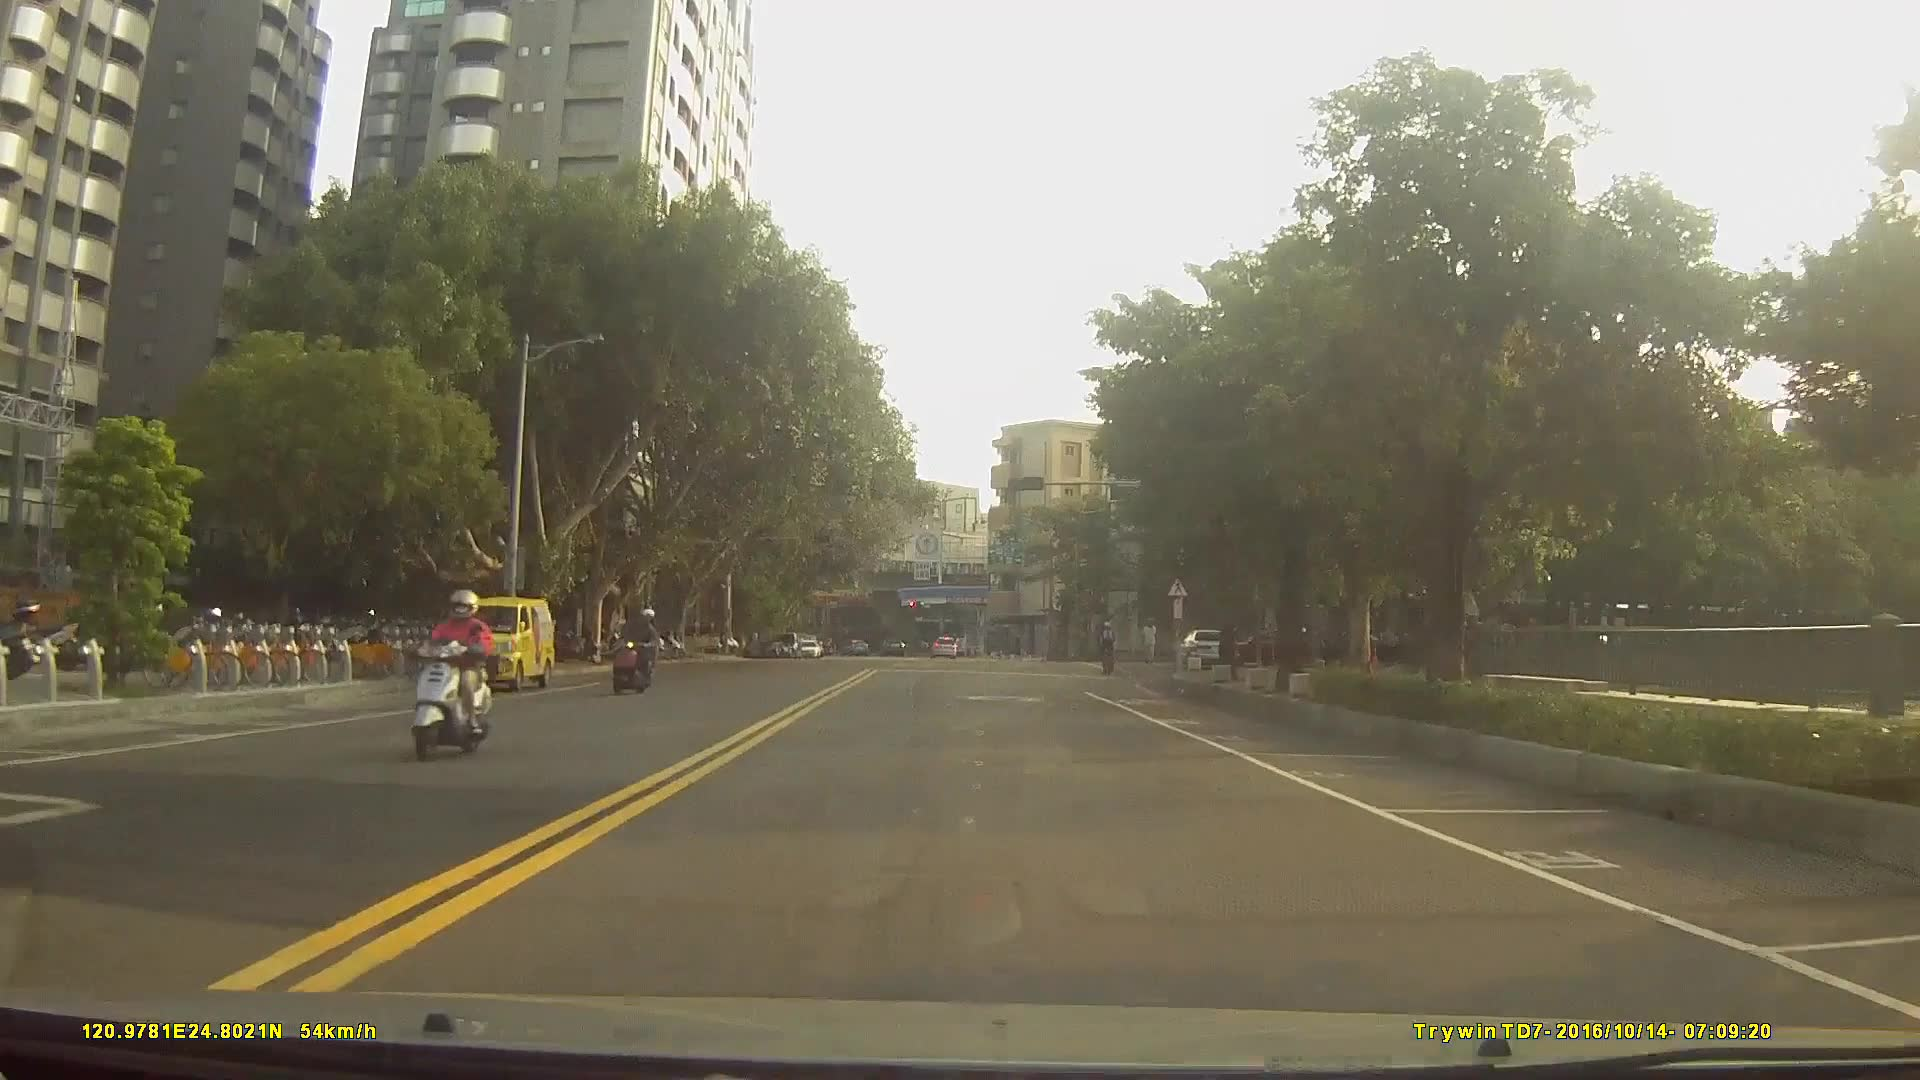pedestrian: (1139, 614, 1159, 667)
rider: (407, 586, 496, 760), (610, 606, 662, 695), (1100, 619, 1120, 678)
vehicle: (1178, 627, 1235, 668), (933, 635, 957, 659)
